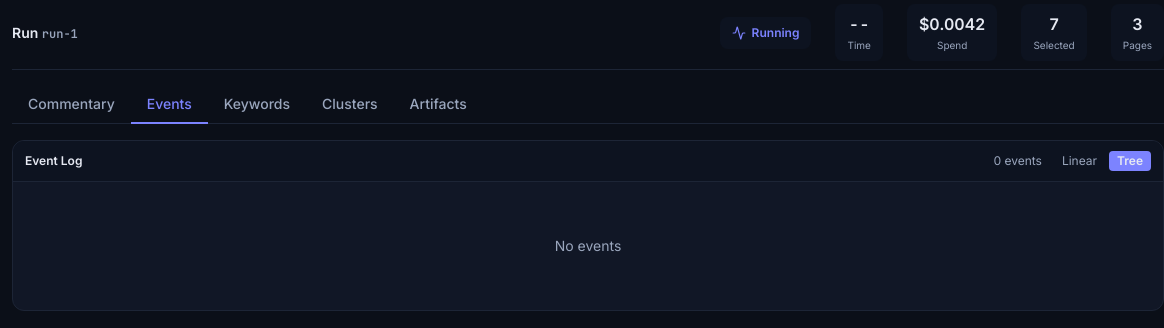
Scenario: ExecutionView (tabbed -- polling) › clicking Keywords tab shows placeholder when run is not yet complete
The image size is (1164, 328).
Step 1. Click the tab "Keywords" → [257, 105], box [208,86,306,124]
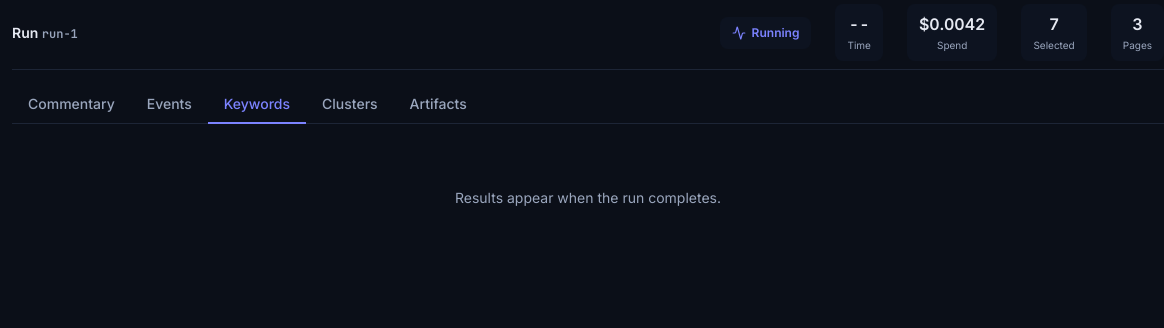
Check: the text "Results appear when the run completes." is shown, box [455,189,721,206]
